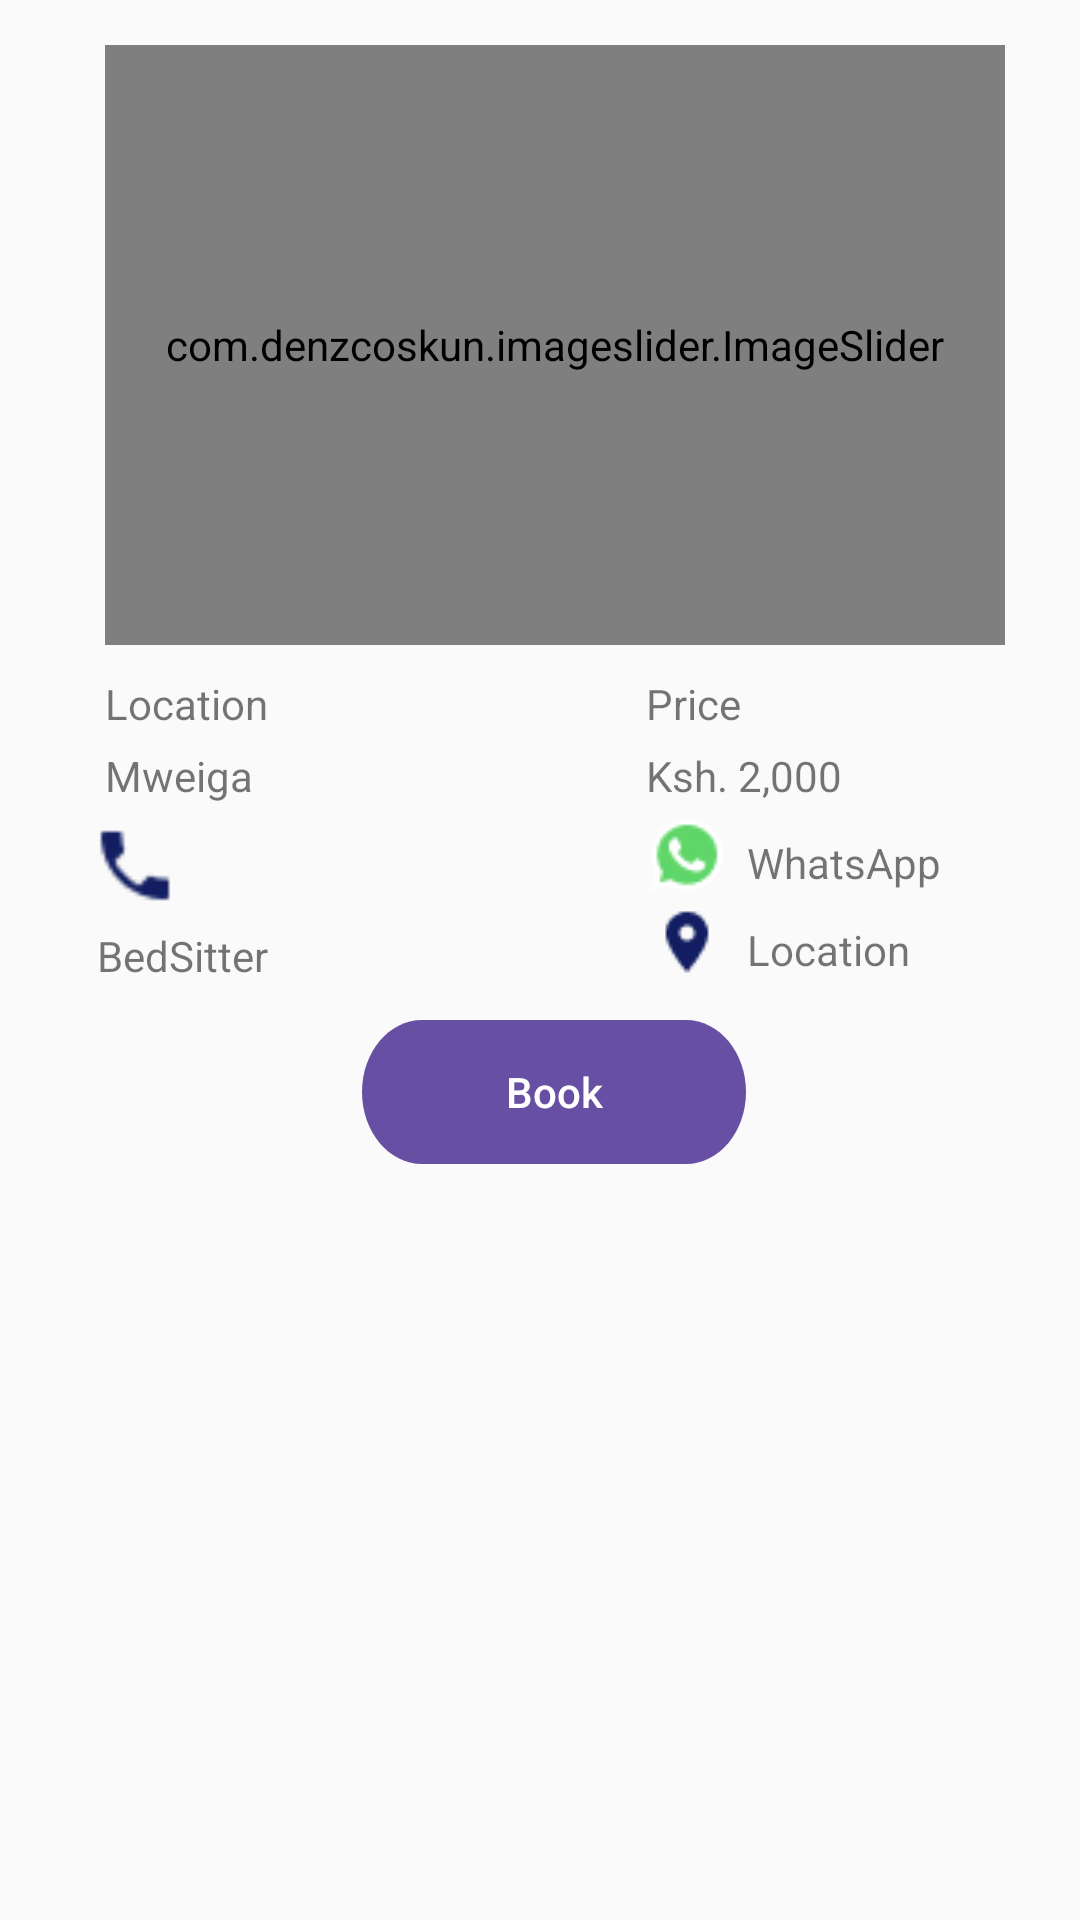

Icons on this 1080w x 1920h Android screen, each with the point to tap as point (x, y):
phone: point (135, 865)
